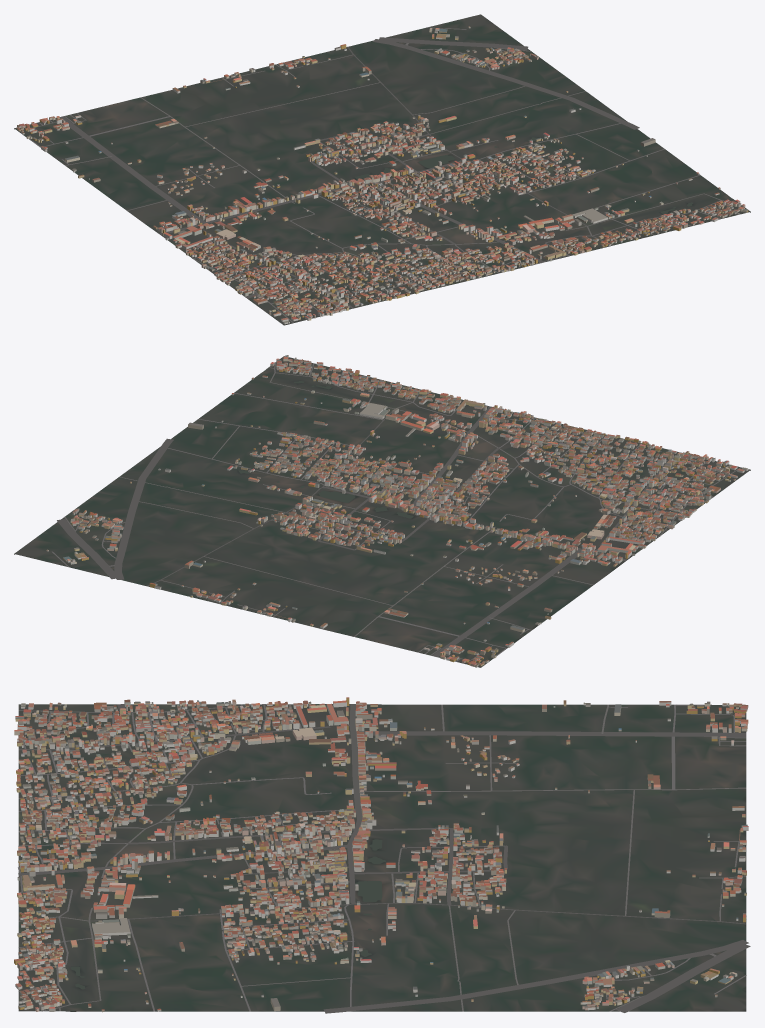
3 renders of one model, top to bottom at view 1: azimuth 30°, elevation 25°; view 2: azimuth 150°, elevation 25°; view 3: azimuth 270°, elevation 25°, orthographic. The views are drawn at different scales.
Visible parts, largest first — view 1: ground, buildings, roads; view 2: ground, buildings, roads, water; view 3: ground, buildings, roads, water.
Part boxes in pixels (x1,y1,x2,y2): ground: (14, 14, 750, 325); buildings: (16, 26, 748, 324); roads: (29, 27, 741, 323); ground: (14, 356, 750, 667); buildings: (46, 355, 748, 667); roads: (52, 362, 741, 661); water: (238, 370, 413, 518); ground: (18, 704, 746, 1011); buildings: (14, 697, 748, 1012); roads: (18, 704, 750, 1013); water: (71, 839, 385, 1011).
Size of the model in its own units: 1417 by 23.08 by 1420.
